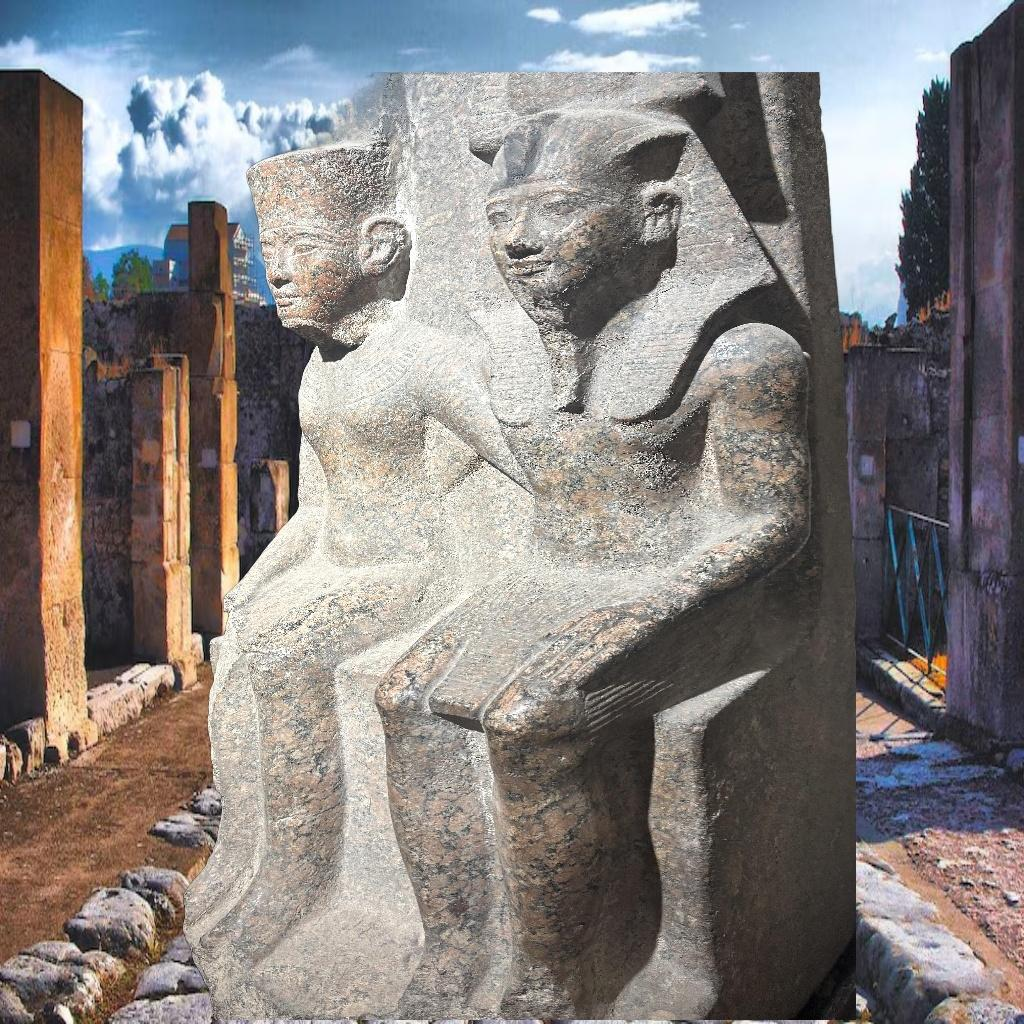Statue of Amun and King: (168, 73, 856, 1020)
